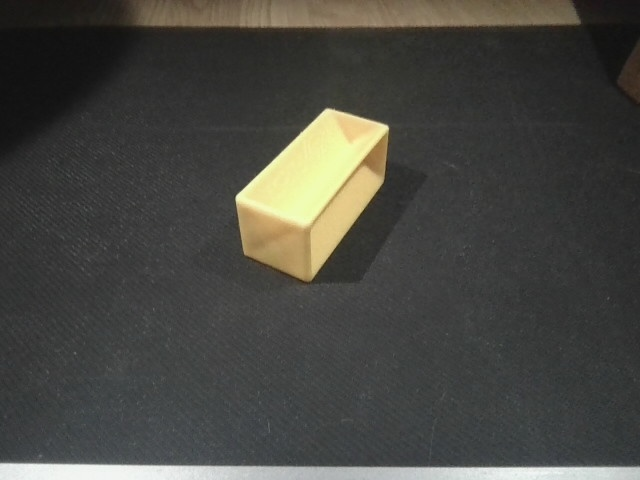YellowSample: (232, 105, 395, 299)
